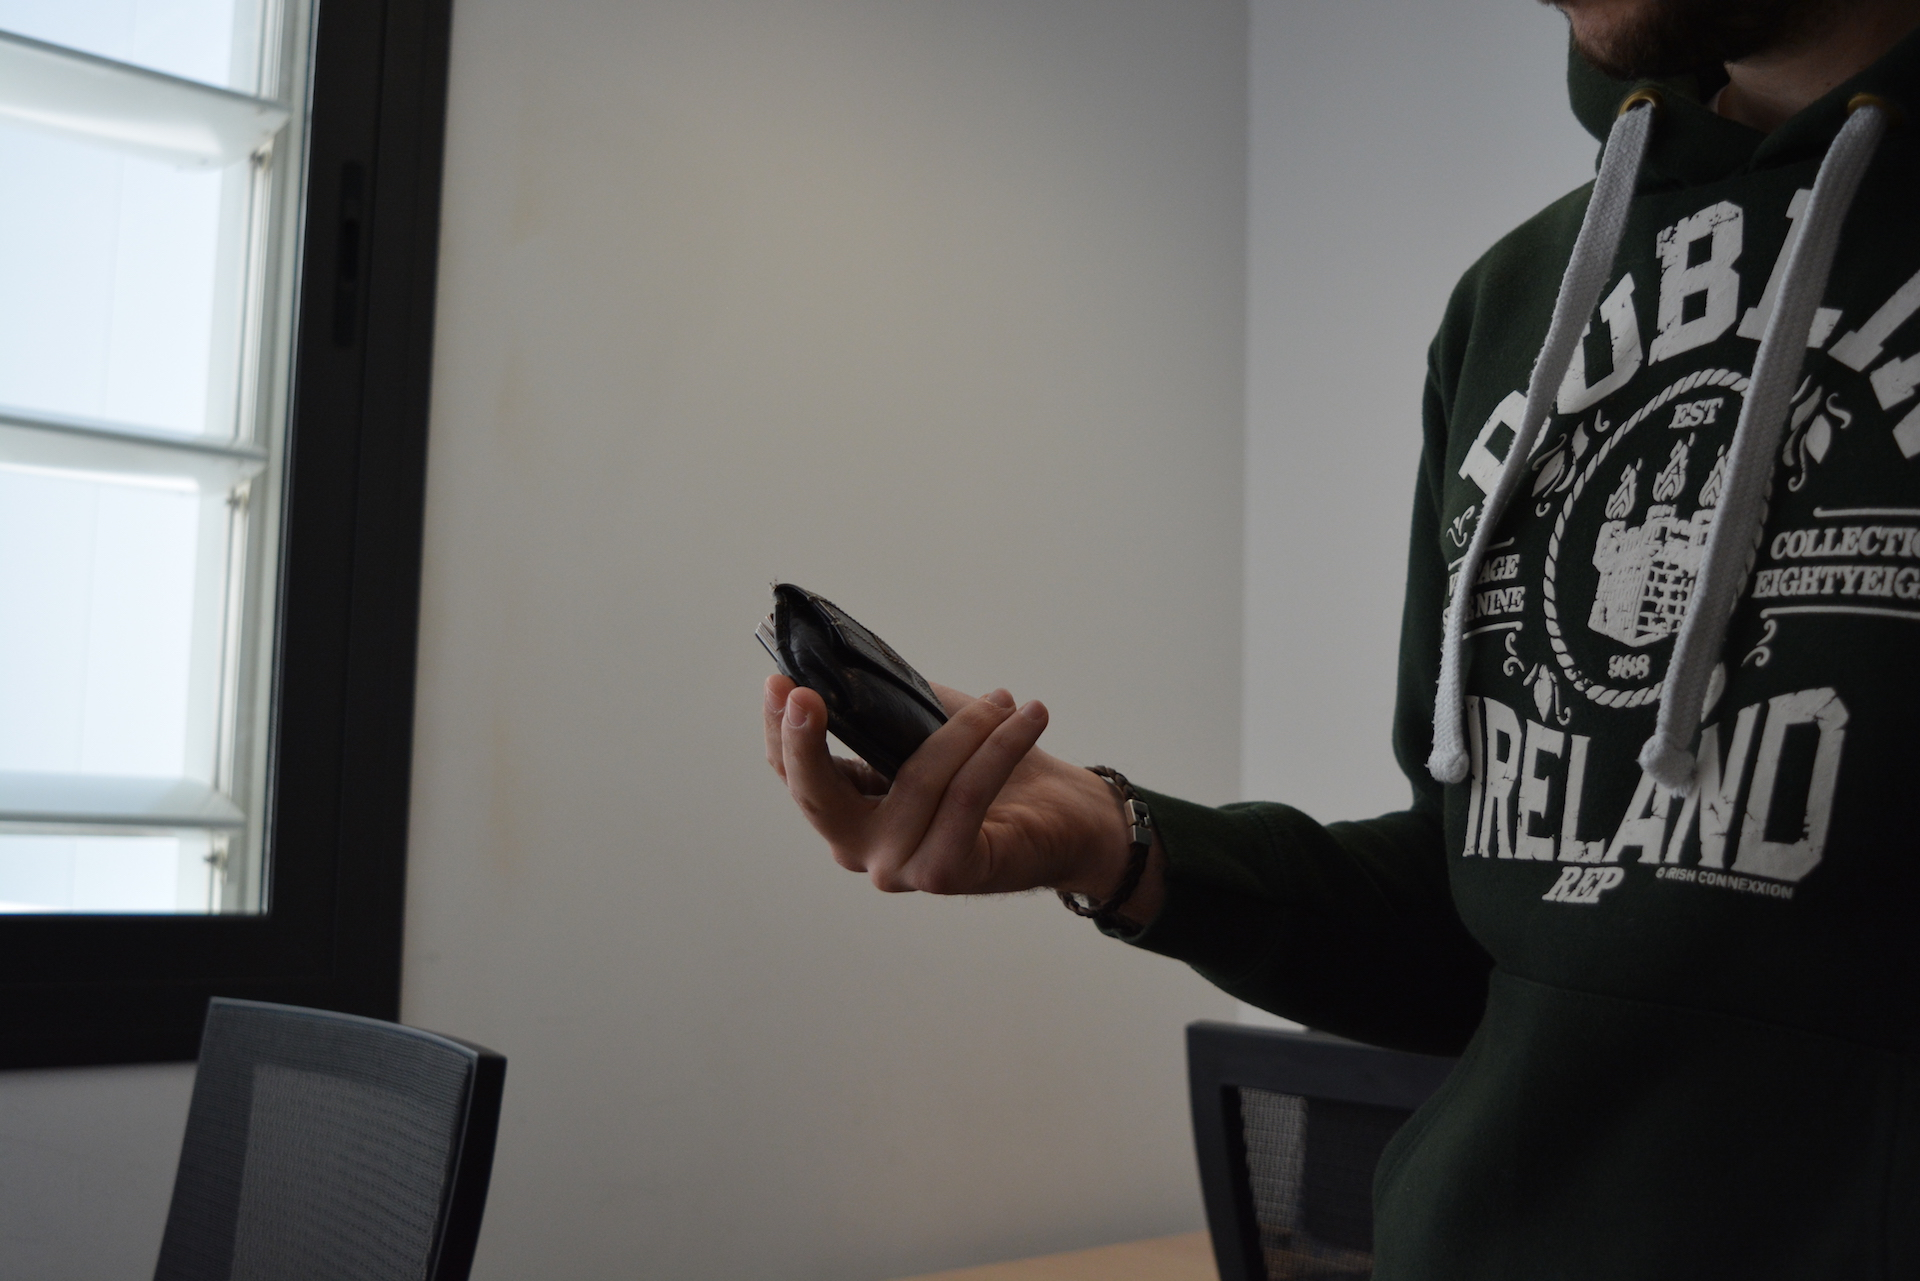monedero: (751, 578, 956, 792)
